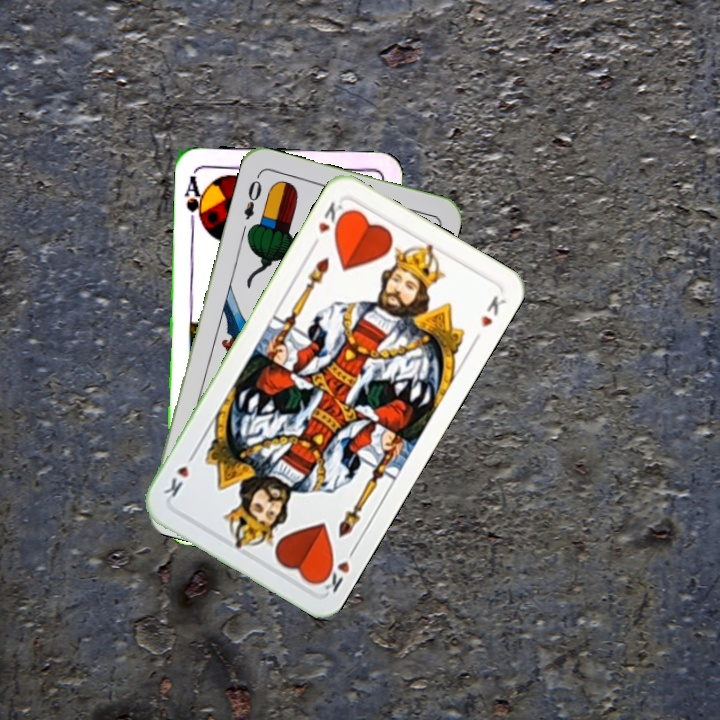EO: (239, 171, 264, 222)
HK: (315, 542, 359, 596), (314, 197, 350, 237)
SA: (181, 171, 208, 230)
